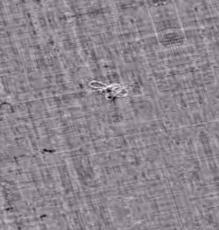snag: (86, 75, 133, 108)
